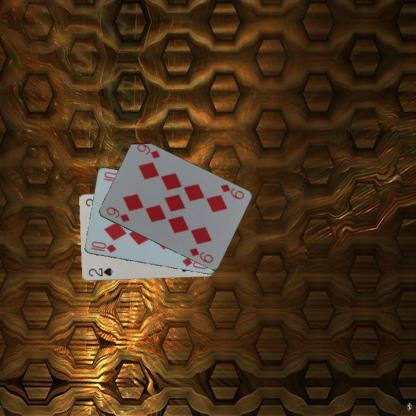10d: (89, 239, 117, 254)
2s: (86, 266, 114, 277)
9d: (104, 204, 130, 223), (218, 182, 245, 200)
